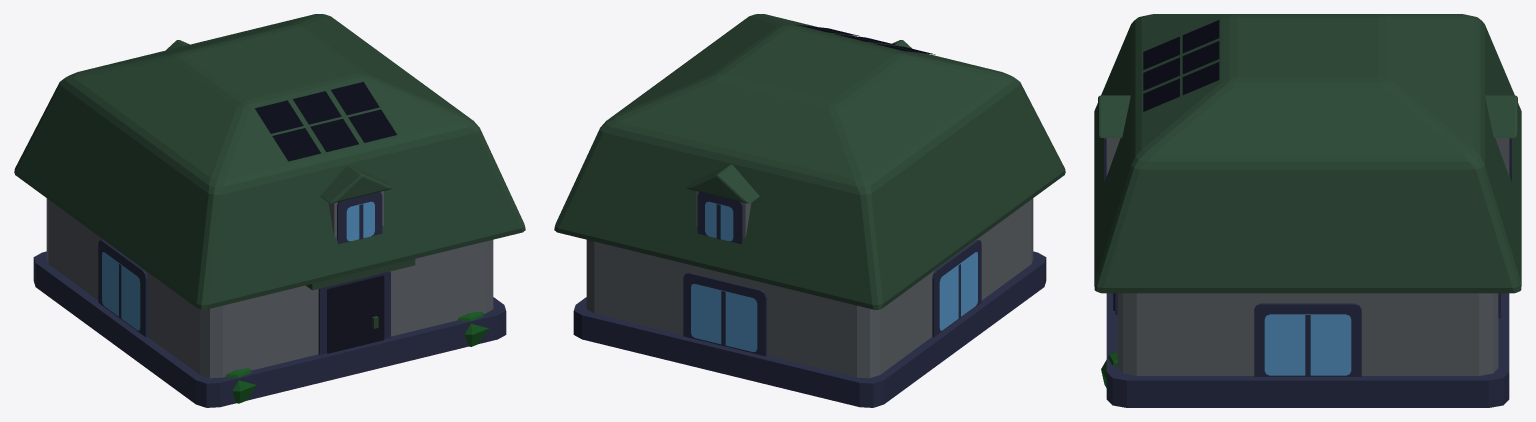
File: house-1x1-1f-mansard-d-solar.glb
3 renders of one model, left to right at view 1: azimuth 30°, elevation 25°; view 2: azimuth 150°, elevation 25°; view 3: azimuth 270°, elevation 25°, orthographic. The views are drawn at different scales.
Parts seen in each view (by area): view 1: house-1x1-1f-mansard-d-solar; view 2: house-1x1-1f-mansard-d-solar; view 3: house-1x1-1f-mansard-d-solar.
Part boxes in pixels (<box>): house-1x1-1f-mansard-d-solar: <box>14,14,525,407</box>; house-1x1-1f-mansard-d-solar: <box>554,14,1065,407</box>; house-1x1-1f-mansard-d-solar: <box>1094,14,1521,407</box>.
Bounding box in the file's own units: 0.9876 × 0.7026 × 0.9876.
Materials: 1 (1 with a texture image).
